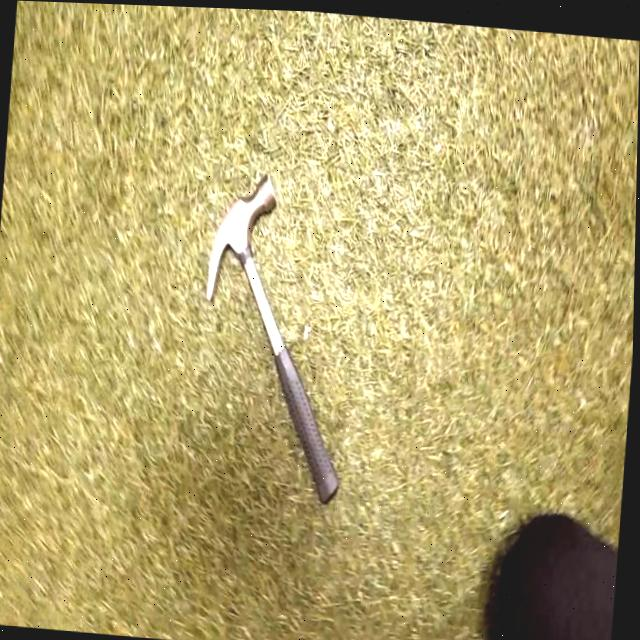hammer: (177, 162, 378, 516)
